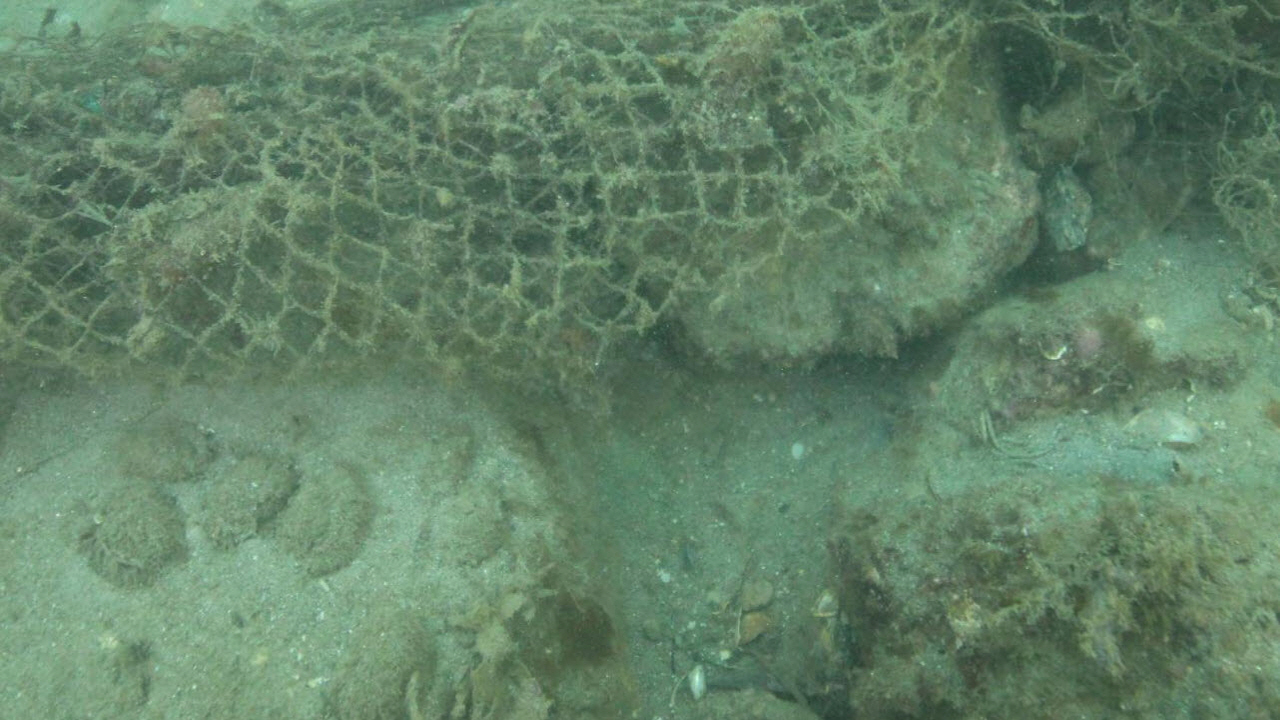fish net: (4, 0, 955, 384)
